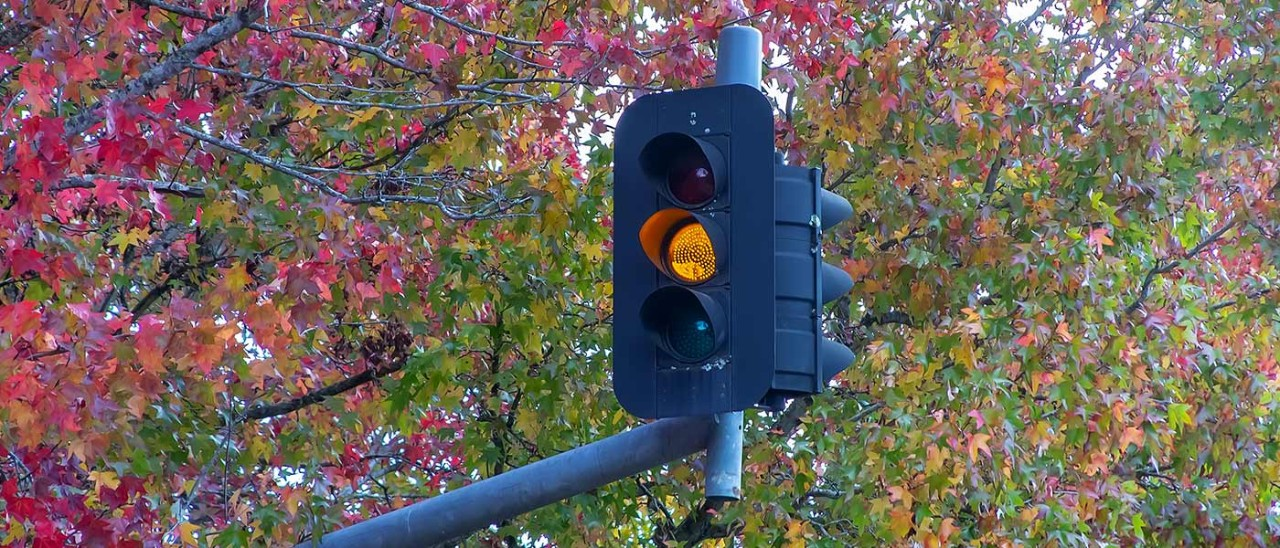TraficLight: (591, 87, 790, 452)
